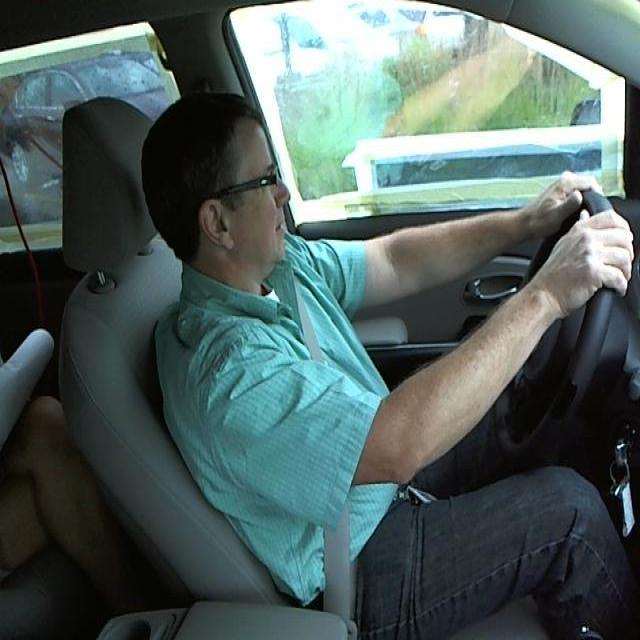without_using_phone: (118, 62, 364, 331)
